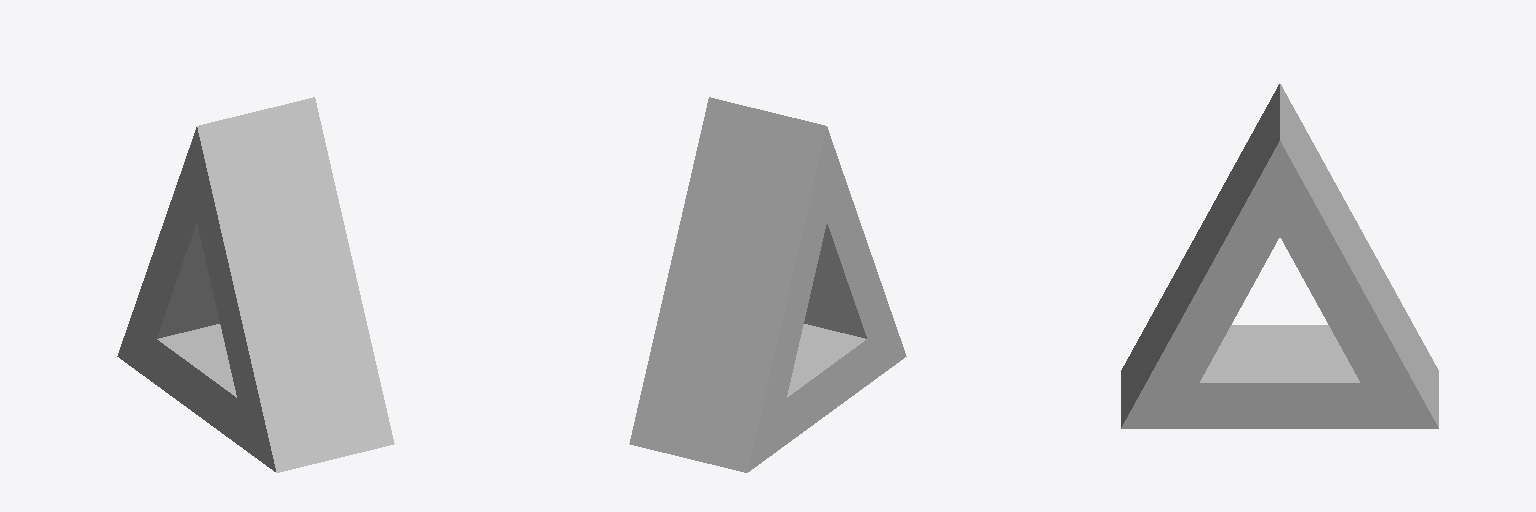
The model's file is triangle holo.obj.
3 views of the same model, side by side, from view 1: azimuth 30°, elevation 25°; view 2: azimuth 150°, elevation 25°; view 3: azimuth 270°, elevation 25° (orthographic).
Parts seen in each view (by area): view 1: Cube.001_Cube.002; view 2: Cube.001_Cube.002; view 3: Cube.001_Cube.002.
Part boxes in pixels (left/top/right/bottom): Cube.001_Cube.002: left=117, top=97, right=394, bottom=472; Cube.001_Cube.002: left=629, top=97, right=906, bottom=472; Cube.001_Cube.002: left=1121, top=84, right=1438, bottom=428.
Size of the model in its own units: 0.8554 by 2 by 2.